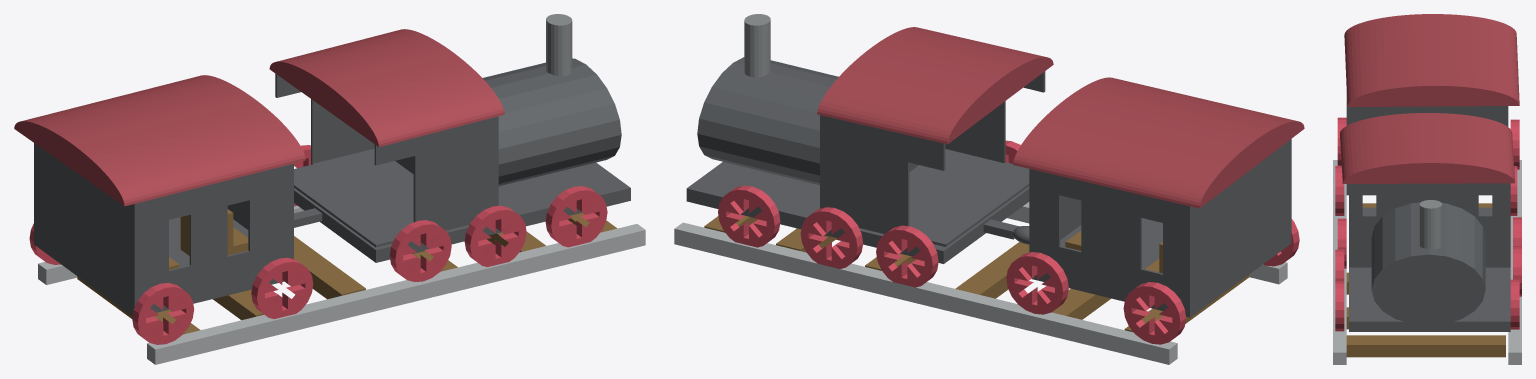
The model's file is train.glb.
3 views of the same model, side by side, from view 1: azimuth 30°, elevation 25°; view 2: azimuth 150°, elevation 25°; view 3: azimuth 270°, elevation 25° (orthographic). The views are drawn at different scales.
Visible parts, largest first — view 1: Mesh_Mesh_head_geo.001_lambert2SG.001; view 2: Mesh_Mesh_head_geo.001_lambert2SG.001; view 3: Mesh_Mesh_head_geo.001_lambert2SG.001.
Boxes of the visible parts, <box> form: Mesh_Mesh_head_geo.001_lambert2SG.001: <box>14,14,645,364</box>; Mesh_Mesh_head_geo.001_lambert2SG.001: <box>674,14,1304,364</box>; Mesh_Mesh_head_geo.001_lambert2SG.001: <box>1333,14,1521,364</box>.
Bounding box in the file's own units: 211 × 73 × 83.
